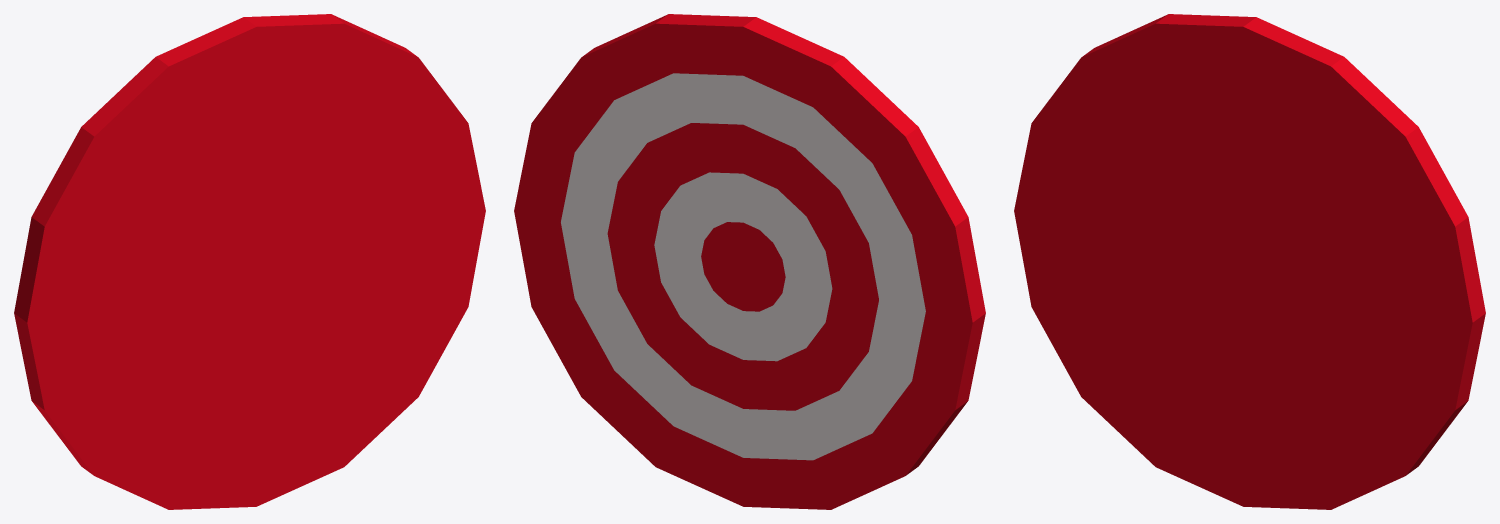
The model's file is Target.fbx.
The picture shows the model from 3 angles, left to right: view 1: azimuth 30°, elevation 25°; view 2: azimuth 150°, elevation 25°; view 3: azimuth 330°, elevation 25°; orthographic projection.
Visible parts, largest first — view 1: Cylinder; view 2: Cylinder; view 3: Cylinder.
Part boxes in pixels (x1,y1,x2,y2): Cylinder: (14,14,485,509); Cylinder: (514,14,985,509); Cylinder: (1014,14,1485,509).
Size of the model in its own units: 200 by 200 by 10.
